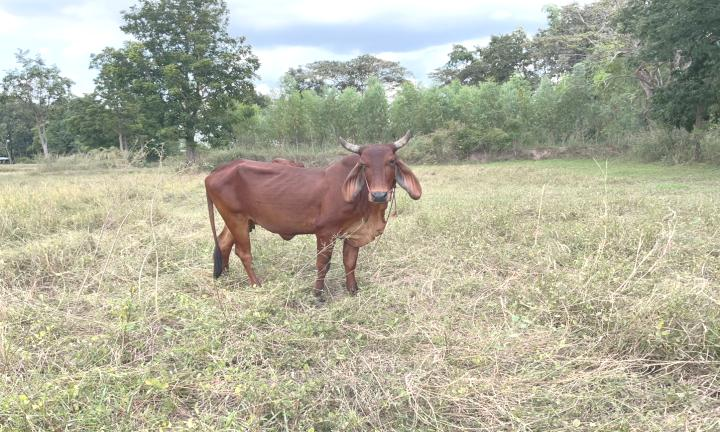Brahman: (205, 131, 421, 301)
